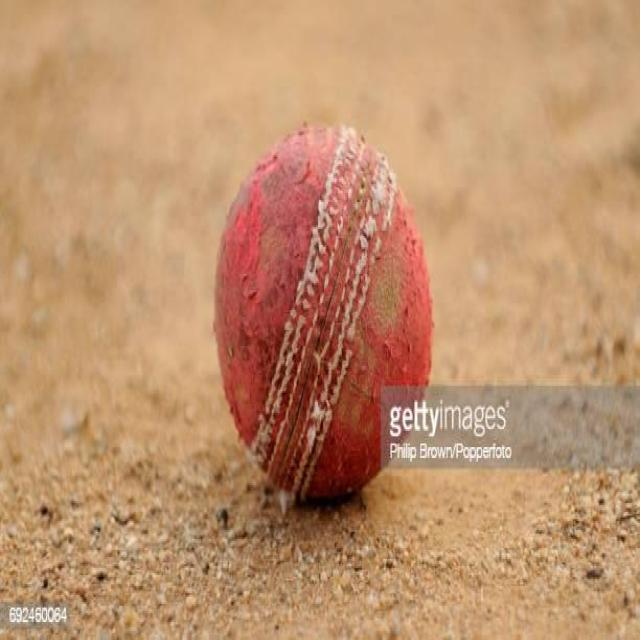ball: (215, 122, 435, 506)
